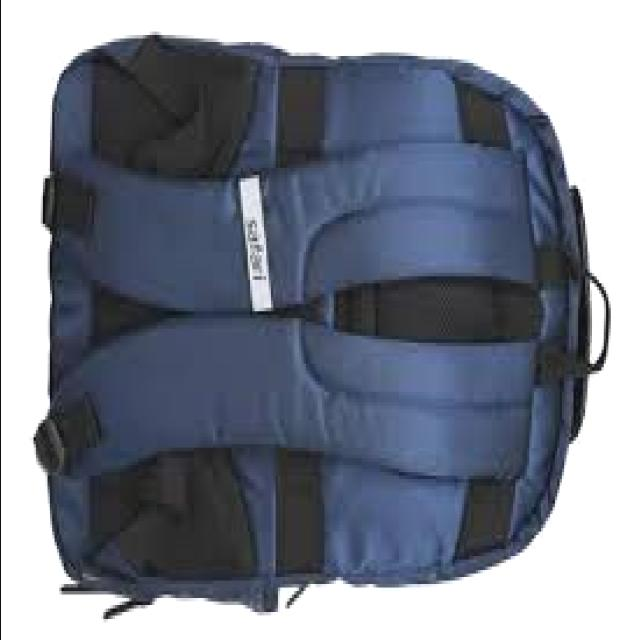backpack: (36, 32, 613, 620)
